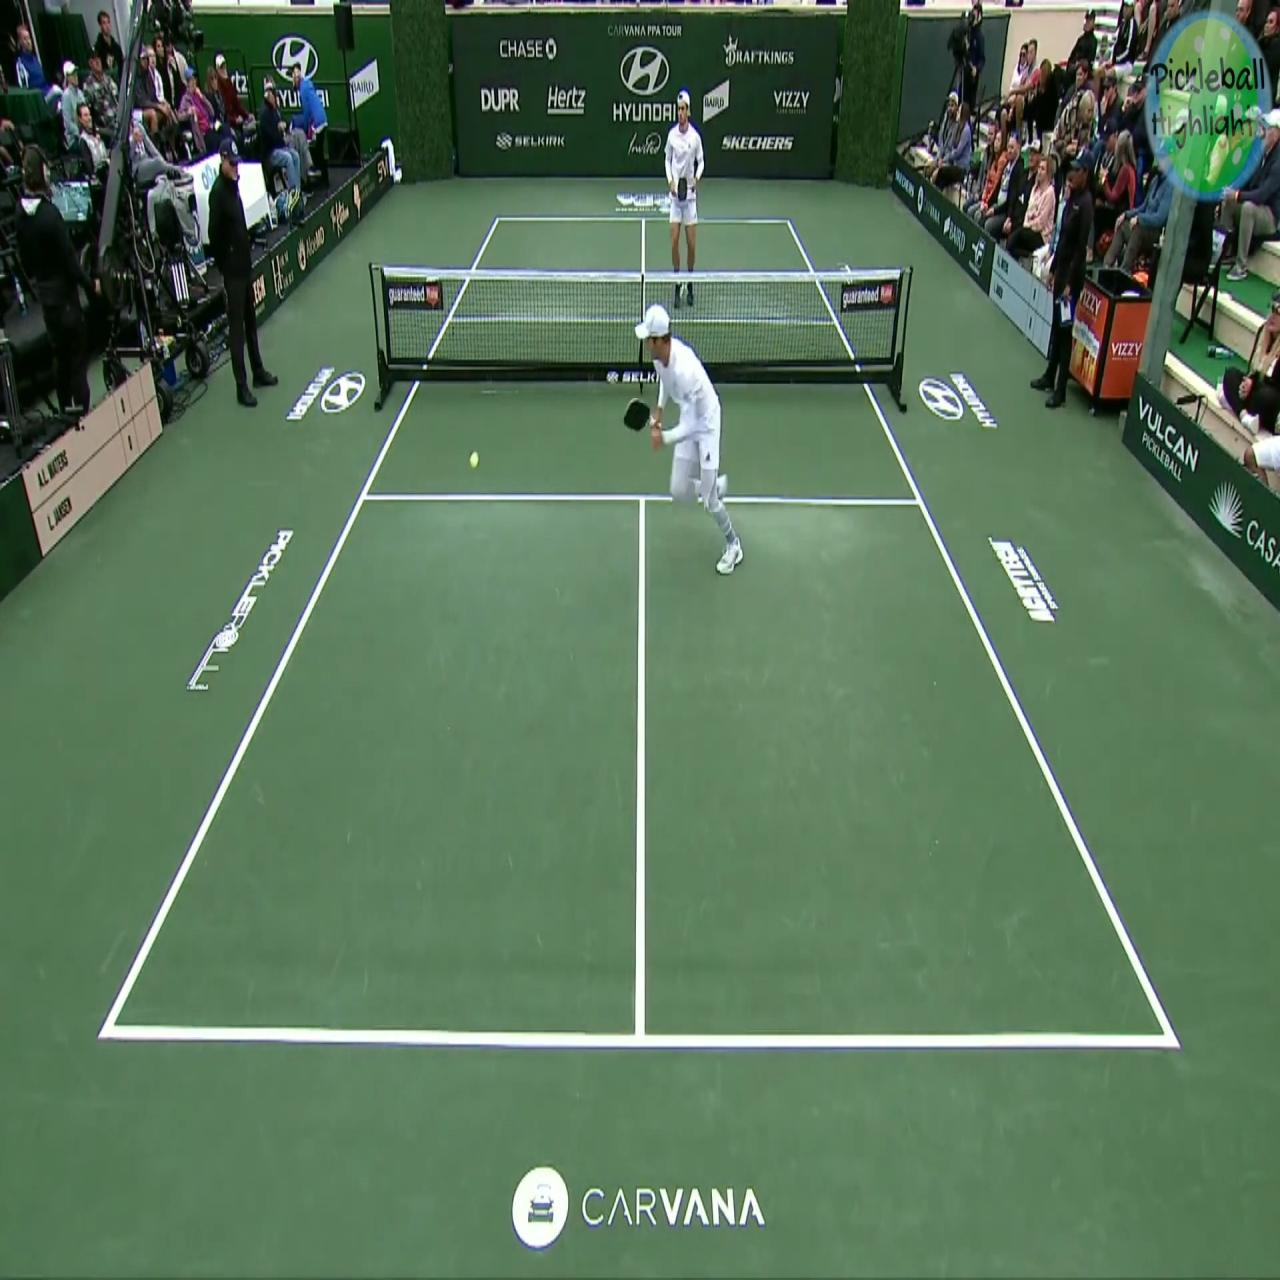pickleball: (469, 451, 478, 468)
